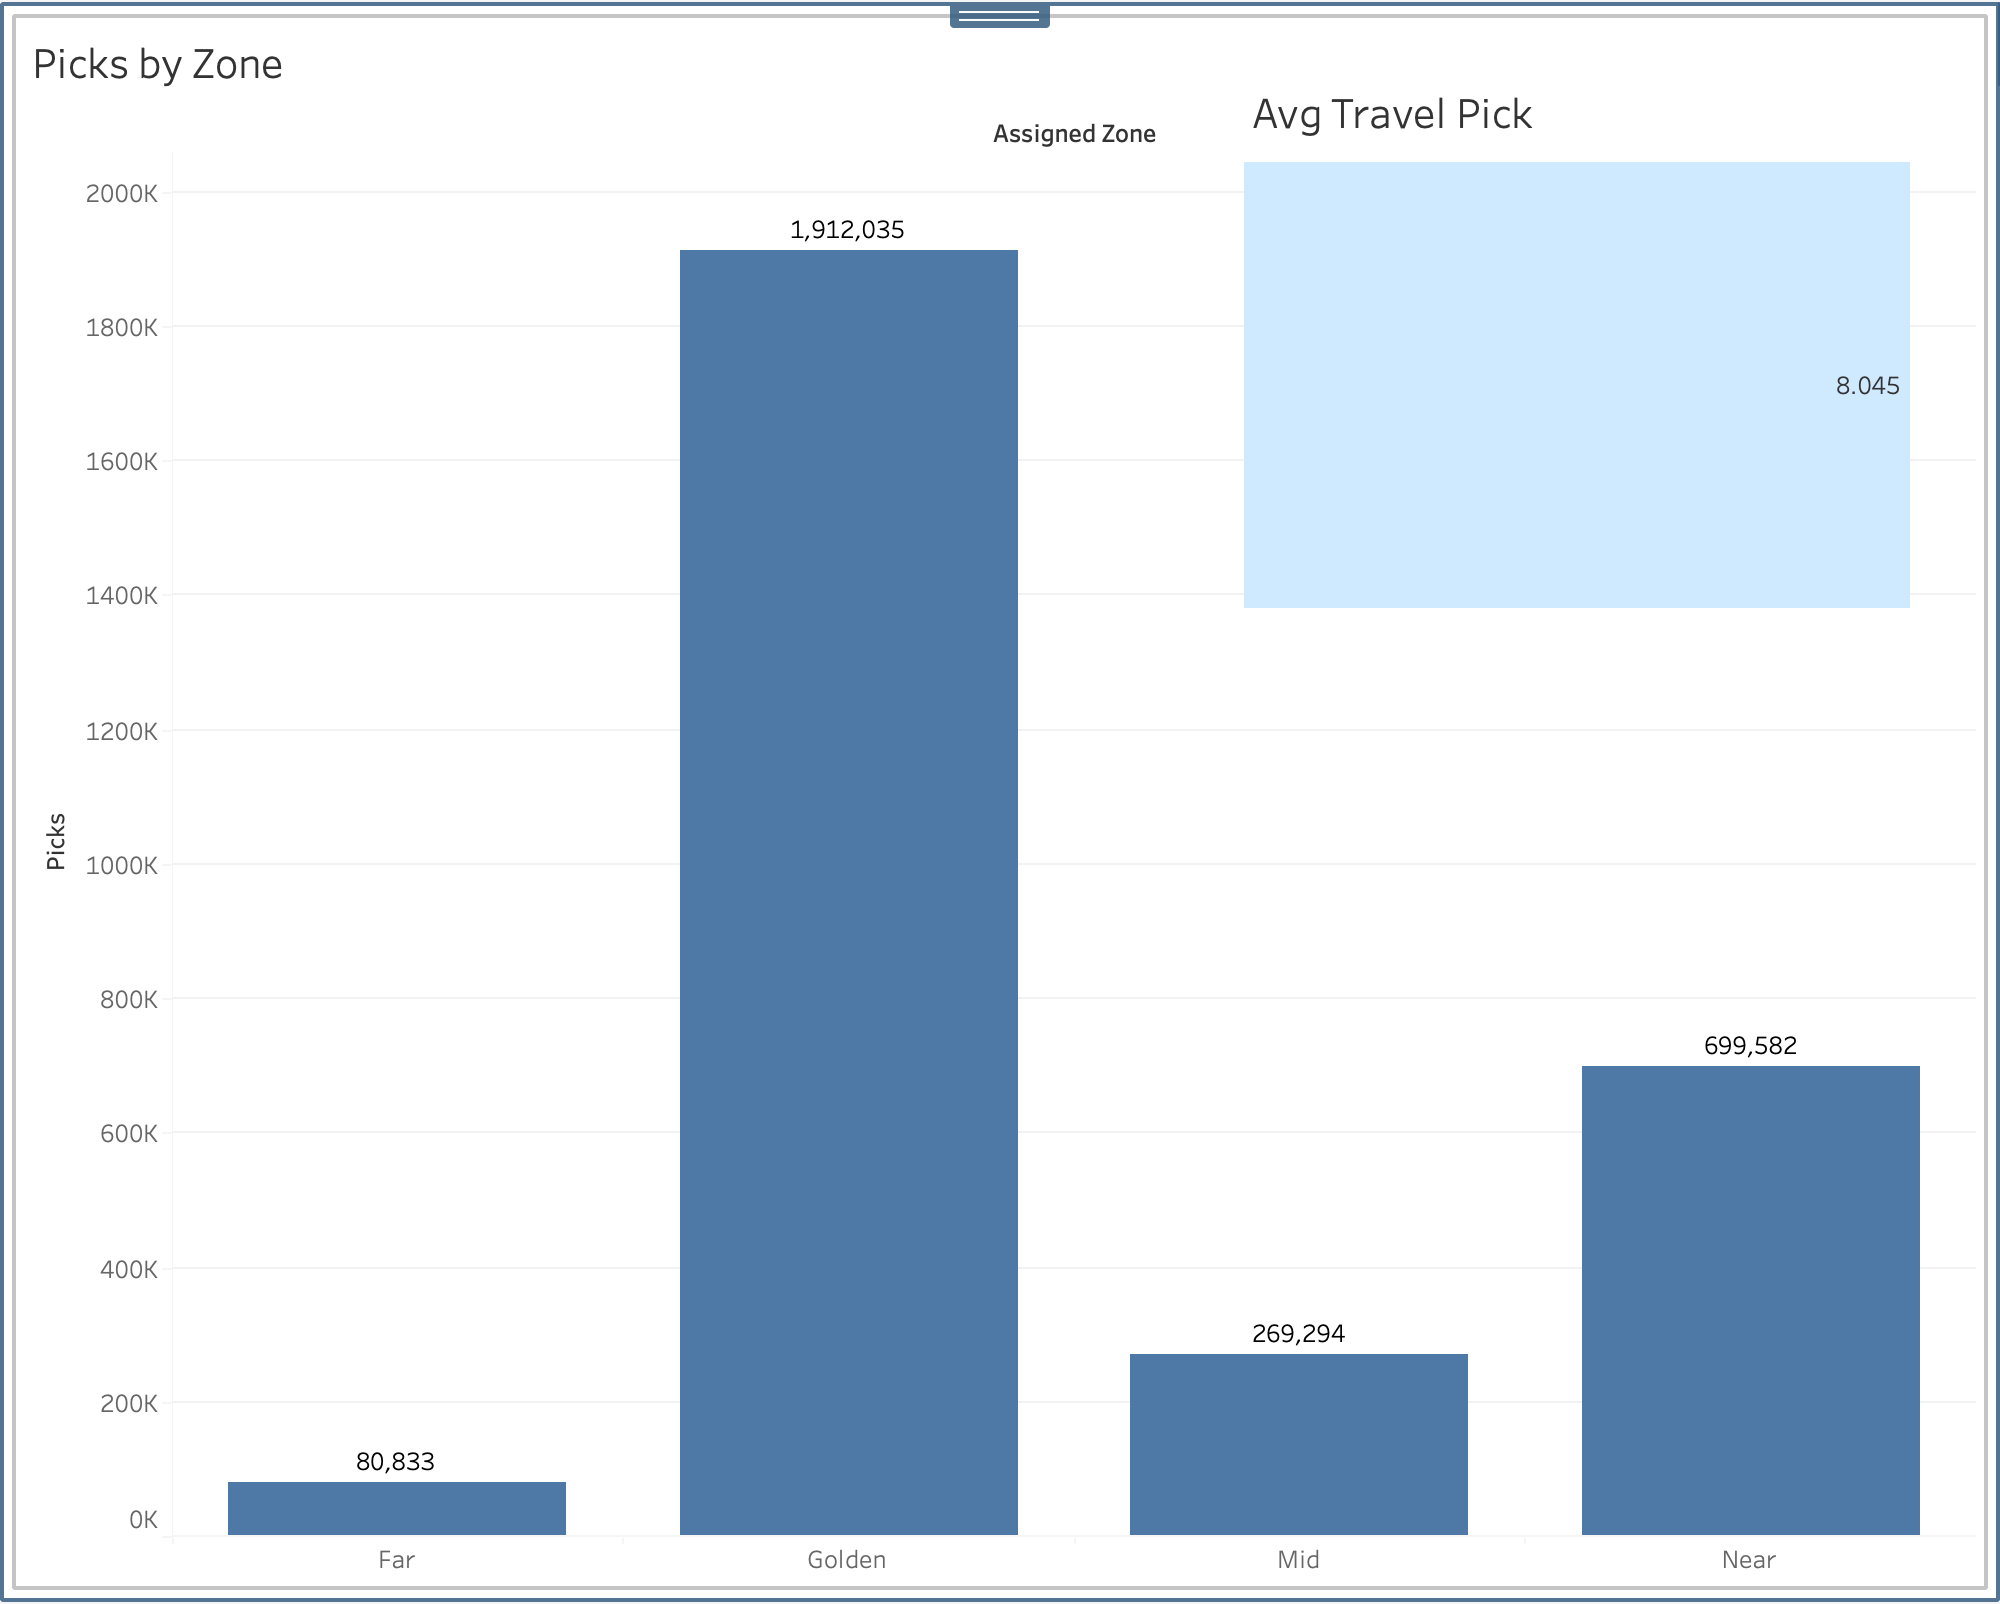

Layout of this report page (visuals, bound fields, positions):
{"tool":"tableau","page":{"name":"Dashboard 1","canvas":[1000,800],"ordinal":0},"visuals":[{"type":"worksheet","title":"Picks by Zone","mark":"Automatic","rows":["picks"],"cols":["assigned_zone"],"box":[8,8,399,784]},{"type":"worksheet","title":"Avg Travel Pick","mark":"Automatic","box":[407,8,585,784]}]}

Visuals, with their boxes in screenshot pixels (x1, y1, x2, y2), scaled from the page's 1000x800 canvas onto the 2000x1604 screenshot:
"Picks by Zone" worksheet: left=16, top=16, right=814, bottom=1588
"Avg Travel Pick" worksheet: left=814, top=16, right=1984, bottom=1588
